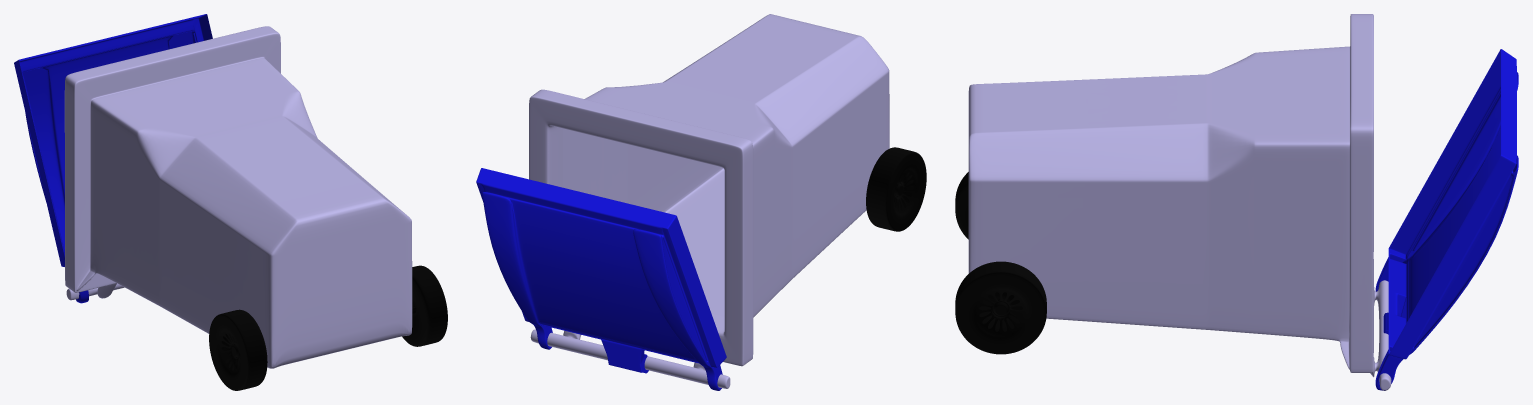
File: trash_garbage_poubelle.fbx
3 views of the same model, side by side, from view 1: azimuth 30°, elevation 25°; view 2: azimuth 150°, elevation 25°; view 3: azimuth 270°, elevation 25° (orthographic). The views are drawn at different scales.
Parts seen in each view (by area): view 1: imagetostl_mesh1, imagetostl_mesh0, imagetostl_mesh2; view 2: imagetostl_mesh1, imagetostl_mesh0, imagetostl_mesh2; view 3: imagetostl_mesh1, imagetostl_mesh0, imagetostl_mesh2.
Part boxes in pixels (left/top/right/bottom): imagetostl_mesh1: left=64, top=26, right=412, bottom=368; imagetostl_mesh0: left=14, top=14, right=212, bottom=303; imagetostl_mesh2: left=209, top=265, right=447, bottom=390; imagetostl_mesh1: left=529, top=14, right=889, bottom=388; imagetostl_mesh0: left=476, top=168, right=726, bottom=390; imagetostl_mesh2: left=866, top=147, right=926, bottom=231; imagetostl_mesh1: left=968, top=14, right=1391, bottom=390; imagetostl_mesh0: left=1375, top=49, right=1518, bottom=390; imagetostl_mesh2: left=955, top=172, right=1046, bottom=354.
Size of the model in its own units: 292 by 318 by 594.
